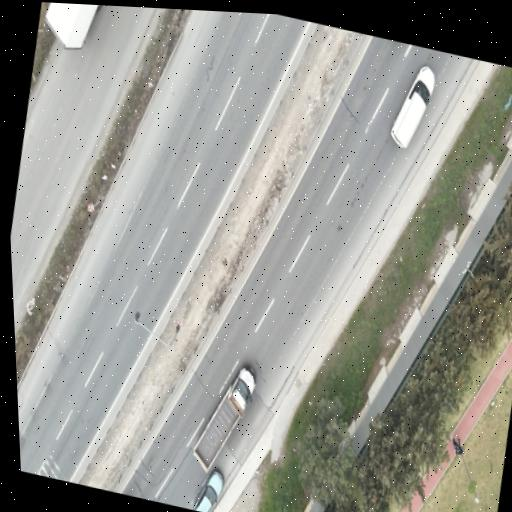car: (390, 66, 434, 147), (193, 470, 223, 511)
person: (451, 435, 463, 455)
truck: (193, 367, 254, 471), (45, 3, 101, 48)
